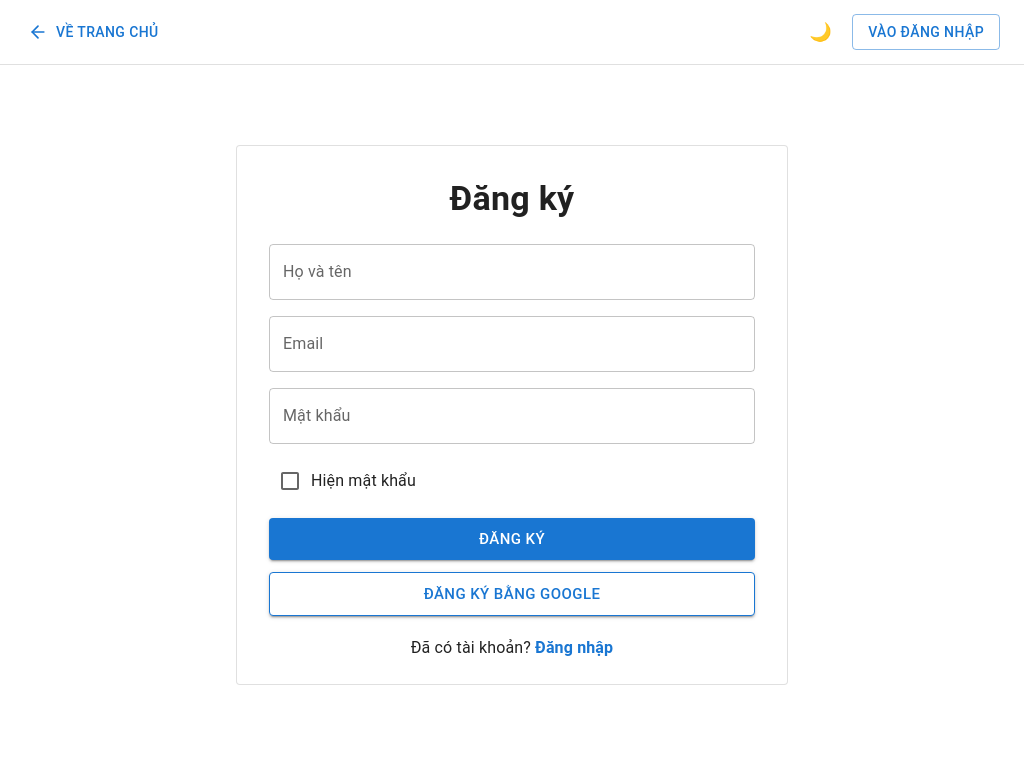
Test case: RegisterPage › shows error for short password
This screenshot has width=1024, height=768.
Type "Nguyễn Văn A" into the field labelled "Họ và tên". click: (512, 272)
box: [269,244,755,300]
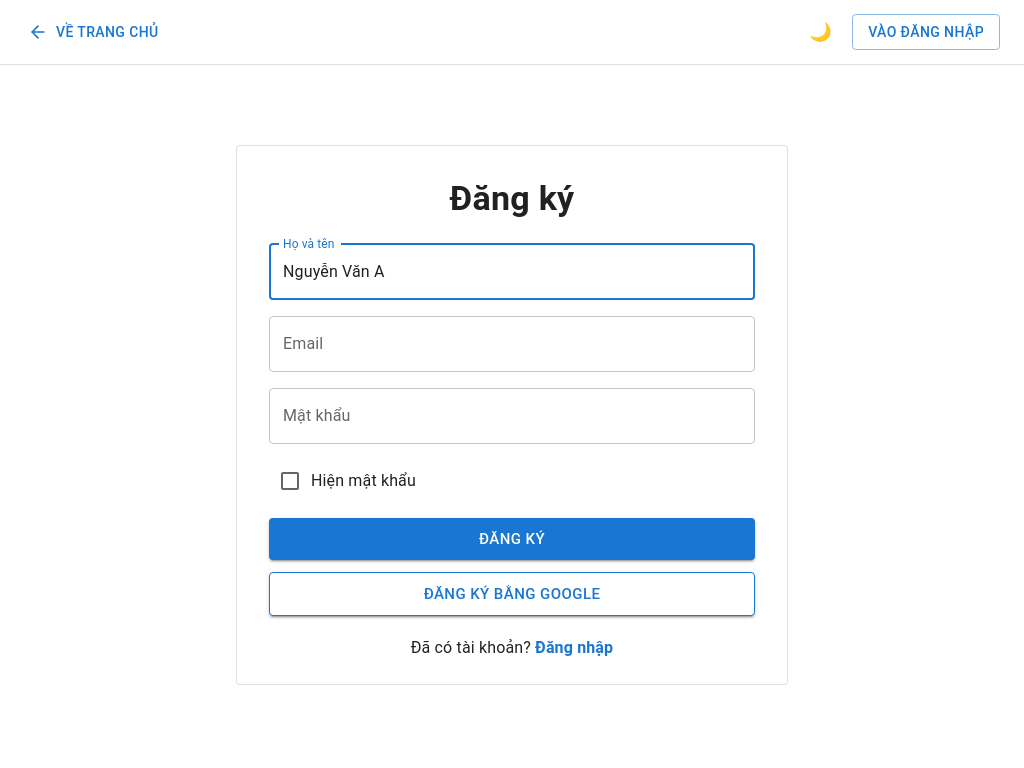
Type "test@test.com" into the field labelled "Email". click: (512, 344)
box: [269,316,755,372]
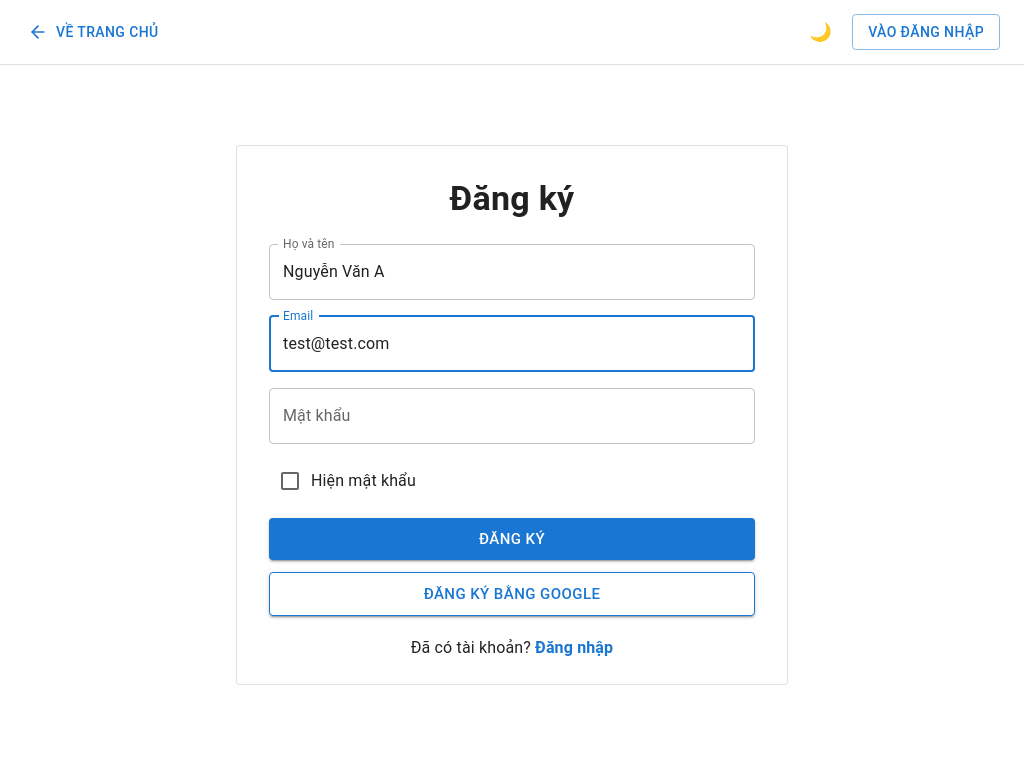
Type "123" into the password field labelled "Mật khẩu". click: (512, 416)
box: [269,388,755,444]
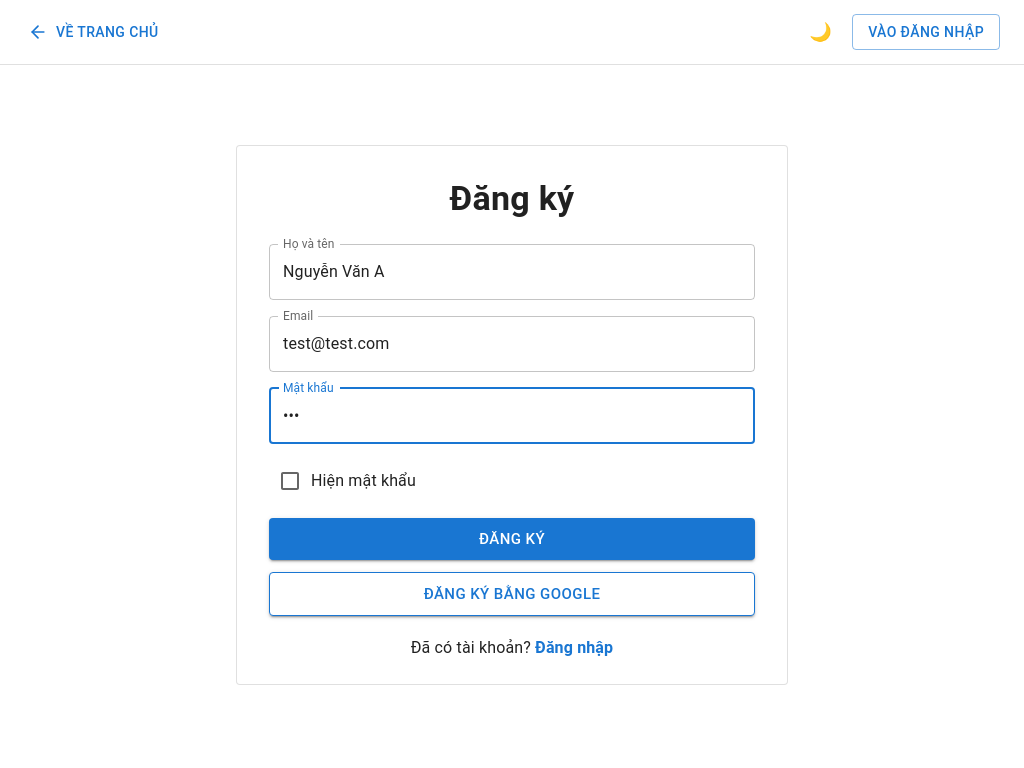
Click the button "Đăng ký". click: (512, 539)
box: [269,518,755,560]
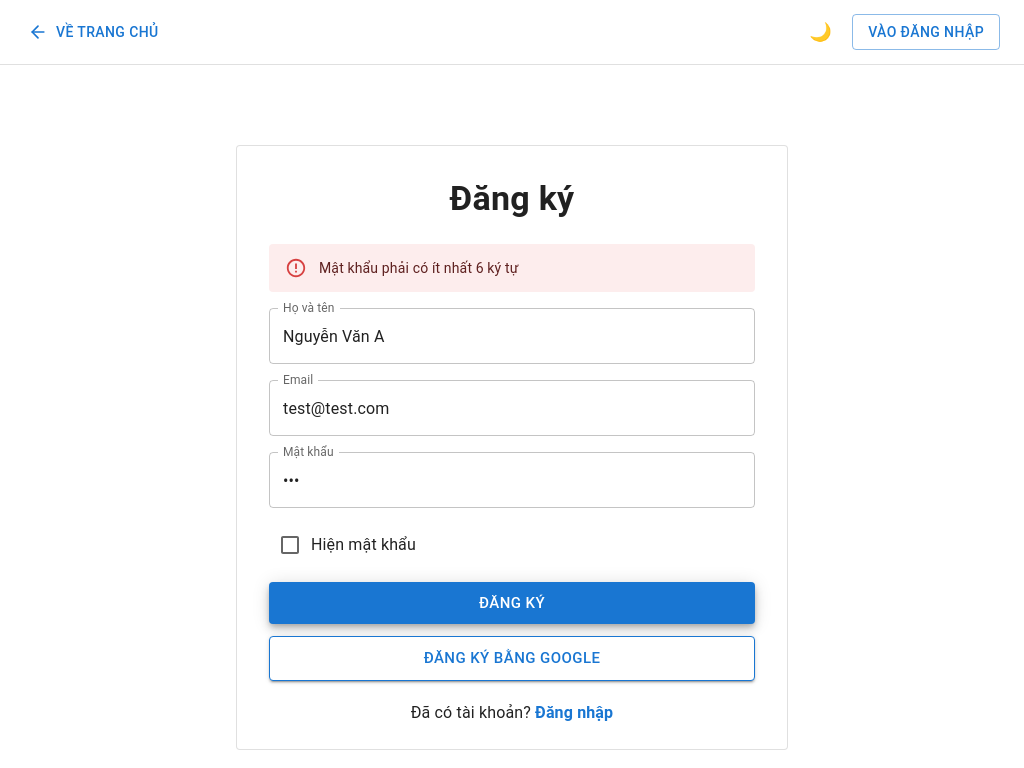
Expected: the message reads "Mật khẩu phải có ít nhất 6 ký tự", [319,260,519,276]
